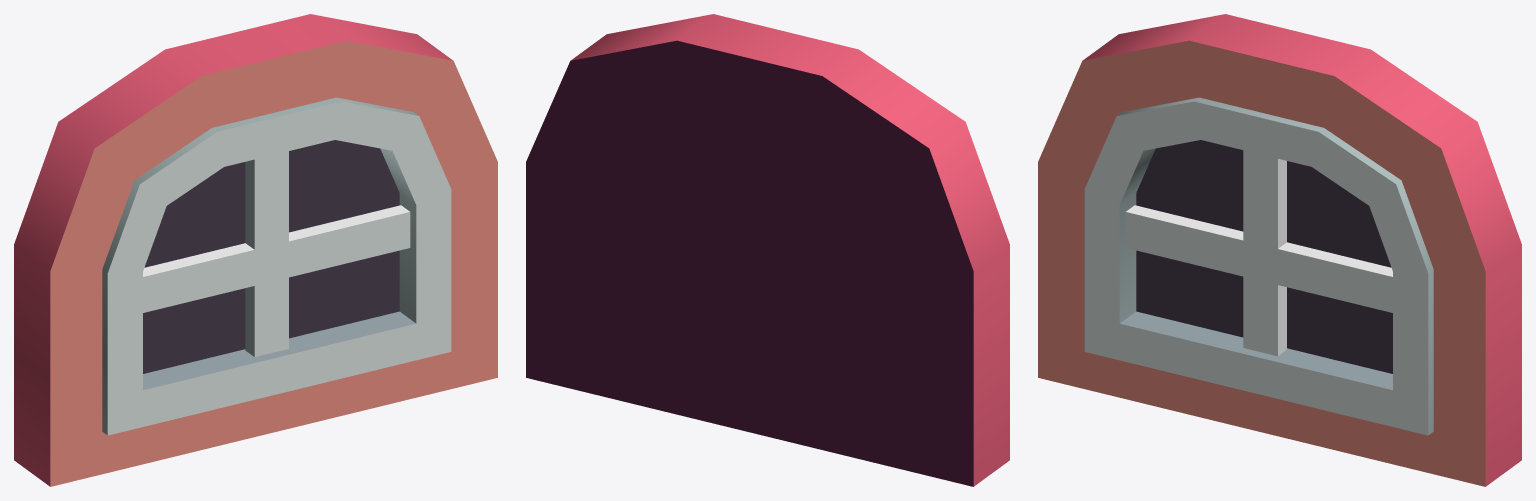
The model's file is Window01_Pink_White.glb.
The picture shows the model from 3 angles, left to right: view 1: azimuth 30°, elevation 25°; view 2: azimuth 150°, elevation 25°; view 3: azimuth 330°, elevation 25°; orthographic projection.
Visible parts, largest first — view 1: Window01_Pink_White; view 2: Window01_Pink_White; view 3: Window01_Pink_White.
Boxes of the visible parts, <box> form: Window01_Pink_White: <box>14,14,497,486</box>; Window01_Pink_White: <box>526,14,1009,486</box>; Window01_Pink_White: <box>1038,14,1521,486</box>.
Bounding box in the file's own units: 0.8998 × 0.7186 × 0.1456.
Materials: 1 (1 with a texture image).
